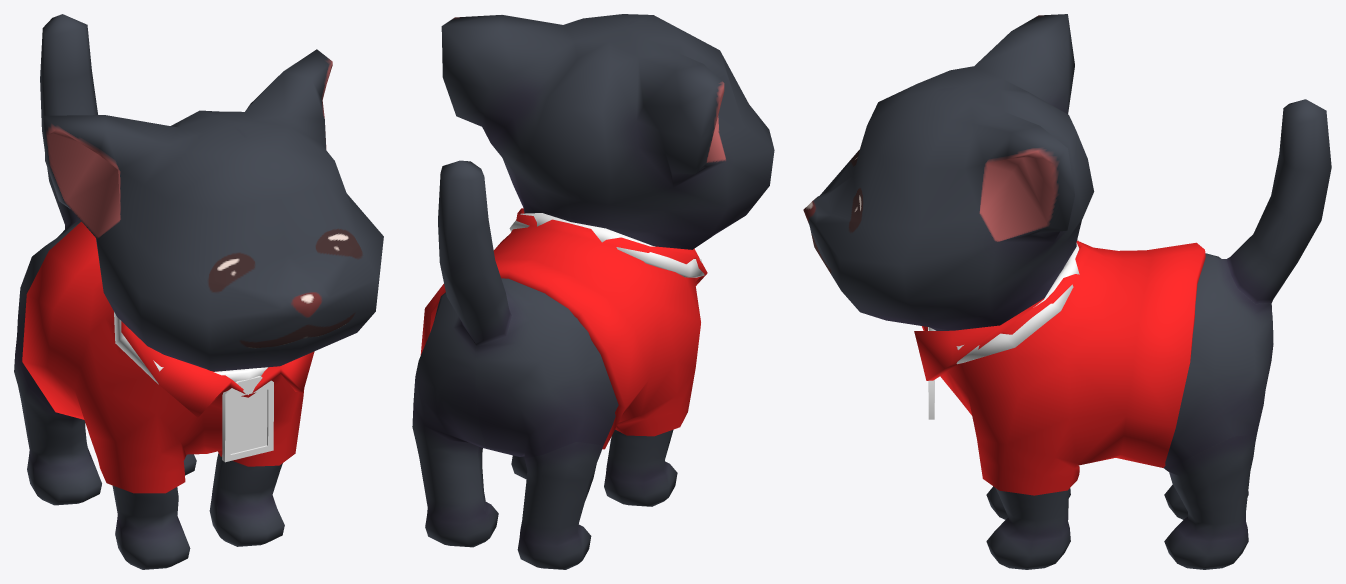
File: LAMBs Cat03.fbx
3 renders of one model, left to right at view 1: azimuth 30°, elevation 25°; view 2: azimuth 150°, elevation 25°; view 3: azimuth 270°, elevation 25°, orthographic. The views are drawn at different scales.
Visible parts, largest first — view 1: Cat_Base002, LAMBs_Cat_Shirt, LAMBs_Cat_ID; view 2: Cat_Base002, LAMBs_Cat_Shirt, LAMBs_Cat_ID; view 3: Cat_Base002, LAMBs_Cat_Shirt, LAMBs_Cat_ID.
Part boxes in pixels (x1=…): Cat_Base002: x1=14, y1=14, x2=383, y2=569; LAMBs_Cat_Shirt: x1=22, y1=221, x2=314, y2=493; LAMBs_Cat_ID: x1=114, y1=312, x2=273, y2=462; Cat_Base002: x1=412, y1=14, x2=774, y2=569; LAMBs_Cat_Shirt: x1=420, y1=208, x2=707, y2=449; LAMBs_Cat_ID: x1=509, y1=213, x2=704, y2=277; Cat_Base002: x1=803, y1=14, x2=1331, y2=569; LAMBs_Cat_Shirt: x1=914, y1=240, x2=1205, y2=495; LAMBs_Cat_ID: x1=928, y1=239, x2=1079, y2=419.
Bounding box in the file's own units: 1.75 × 2.83 × 2.68.
3 materials, 1 textured.
